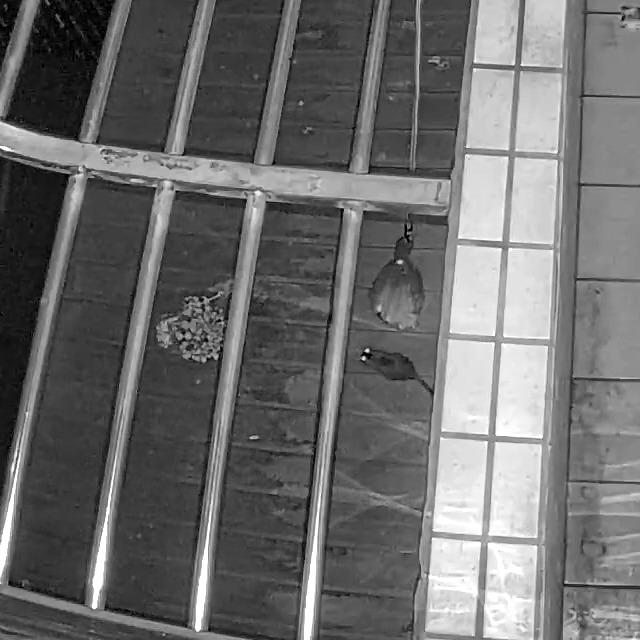rat: (358, 344, 434, 398)
